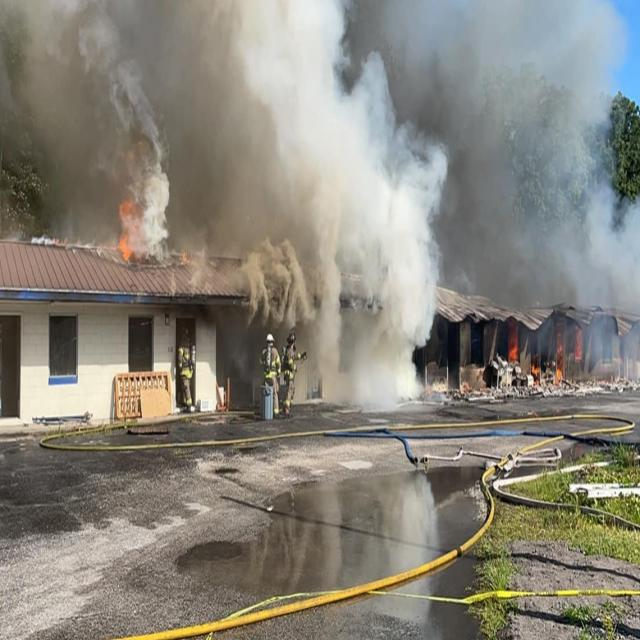smoke: (36, 11, 412, 176), (431, 14, 598, 274), (302, 195, 420, 403)
